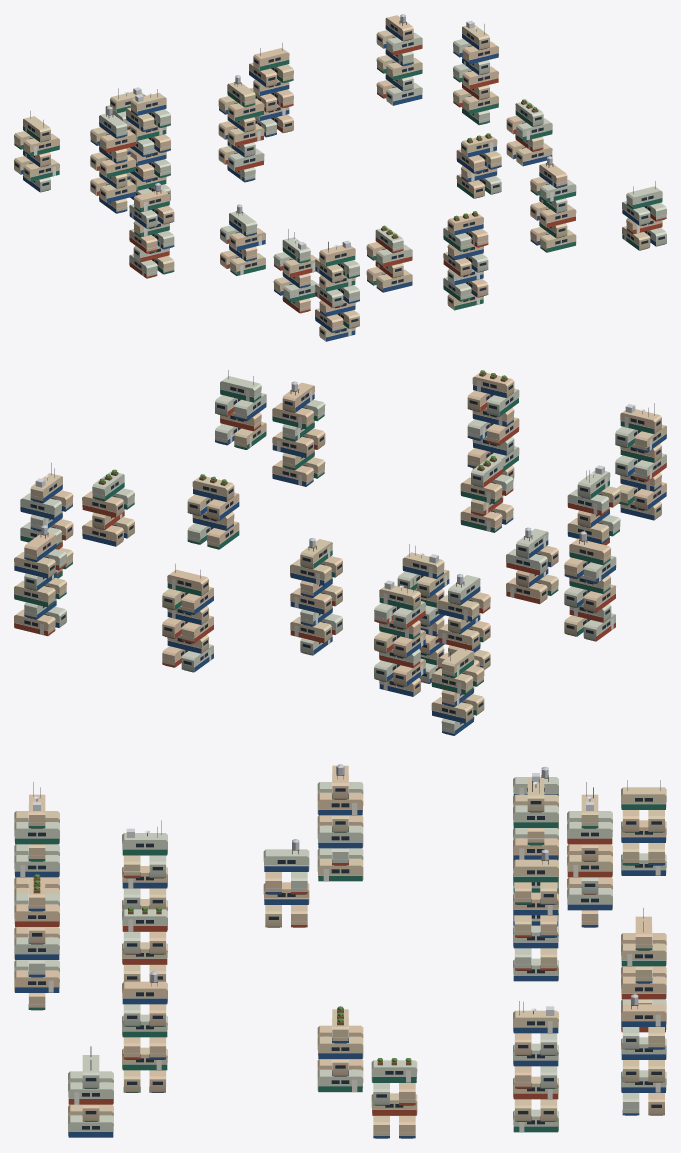
3 renders of one model, top to bottom at view 1: azimuth 30°, elevation 25°; view 2: azimuth 150°, elevation 25°; view 3: azimuth 270°, elevation 25°, orthographic. The views are drawn at different scales.
Visible parts, largest first — view 1: vertical_towers.lod1; view 2: vertical_towers.lod1; view 3: vertical_towers.lod1.
Part boxes in pixels (left/top/right/bottom): vertical_towers.lod1: left=14, top=14, right=666, bottom=341; vertical_towers.lod1: left=14, top=370, right=666, bottom=735; vertical_towers.lod1: left=14, top=764, right=666, bottom=1138.
Bounding box in the file's own units: 96.85 × 24 × 96.85.
